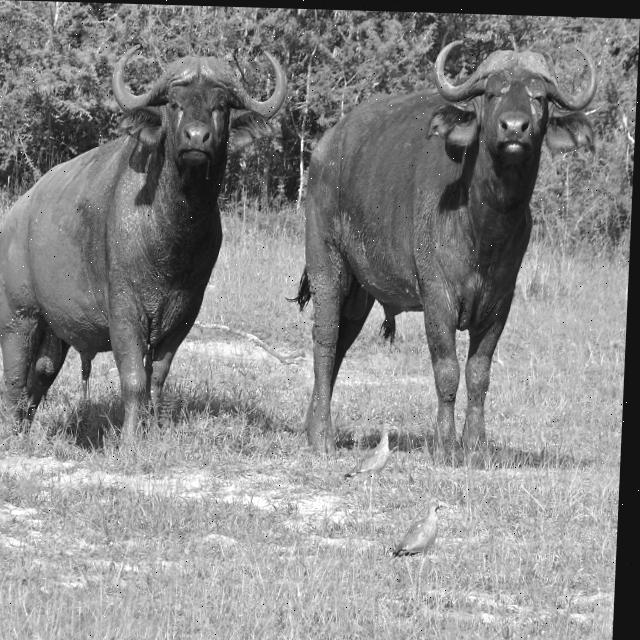Buffalo: (291, 33, 592, 465), (0, 41, 287, 451)
